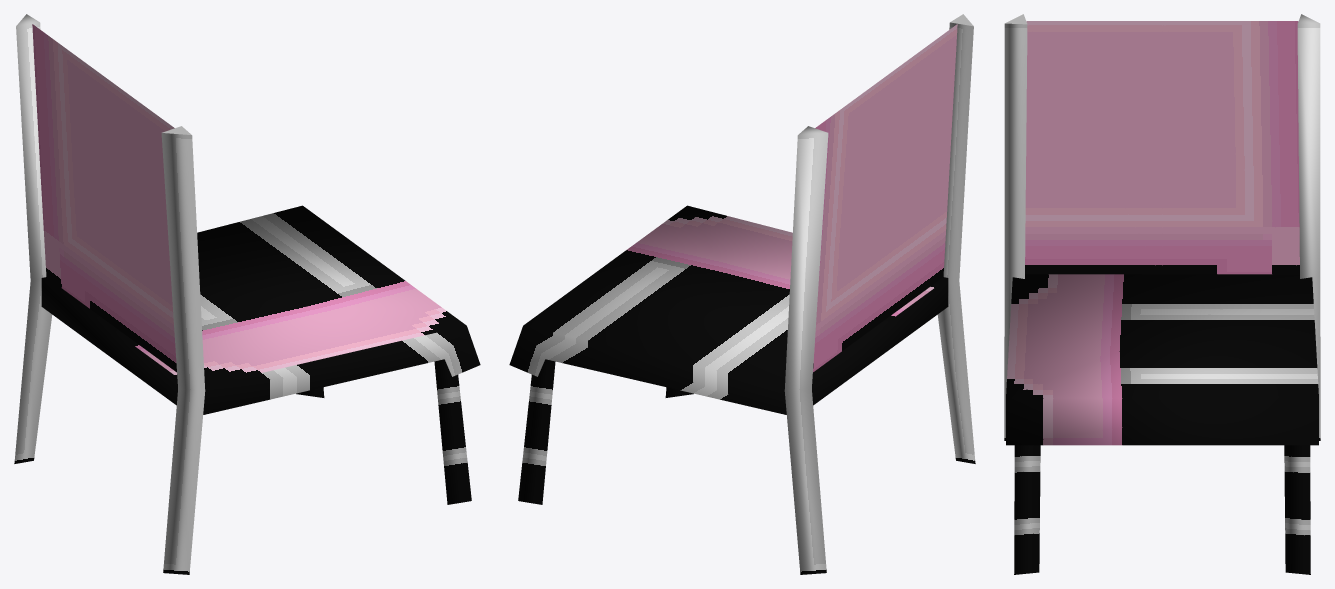
The picture shows the model from 3 angles, left to right: view 1: azimuth 30°, elevation 25°; view 2: azimuth 150°, elevation 25°; view 3: azimuth 270°, elevation 25°; orthographic projection. The views are drawn at different scales.
Parts seen in each view (by area): view 1: 3587kg_28_isu; view 2: 3587kg_28_isu; view 3: 3587kg_28_isu.
Boxes of the visible parts, bbox=[...] form: 3587kg_28_isu: bbox=[14, 14, 480, 574]; 3587kg_28_isu: bbox=[509, 14, 975, 574]; 3587kg_28_isu: bbox=[1004, 14, 1320, 574].
Size of the model in its own units: 0.7886 by 1.07 by 0.7314.
Materials: 1 (1 with a texture image).
